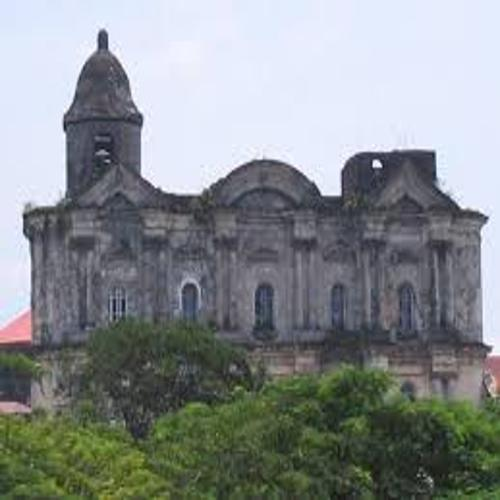Taal Basilica Church: (14, 22, 493, 418)
